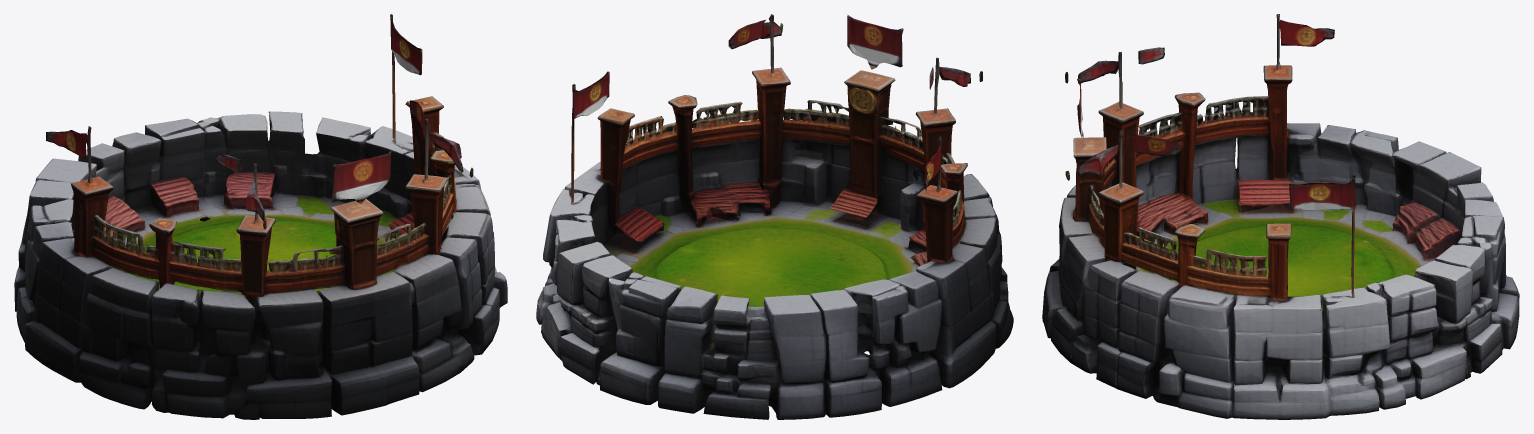
File: Quidditch.glb
The picture shows the model from 3 angles, left to right: view 1: azimuth 30°, elevation 25°; view 2: azimuth 150°, elevation 25°; view 3: azimuth 270°, elevation 25°; orthographic projection. The views are drawn at different scales.
Visible parts, largest first — view 1: world; view 2: world; view 3: world.
Boxes of the visible parts, box(x1,y1,x2,y2) form: world: box(14, 14, 507, 419); world: box(536, 14, 1013, 419); world: box(1042, 14, 1519, 419).
Bounding box in the file's own units: 0.9899 × 0.5301 × 0.9939.
Materials: 1 (1 with a texture image).
